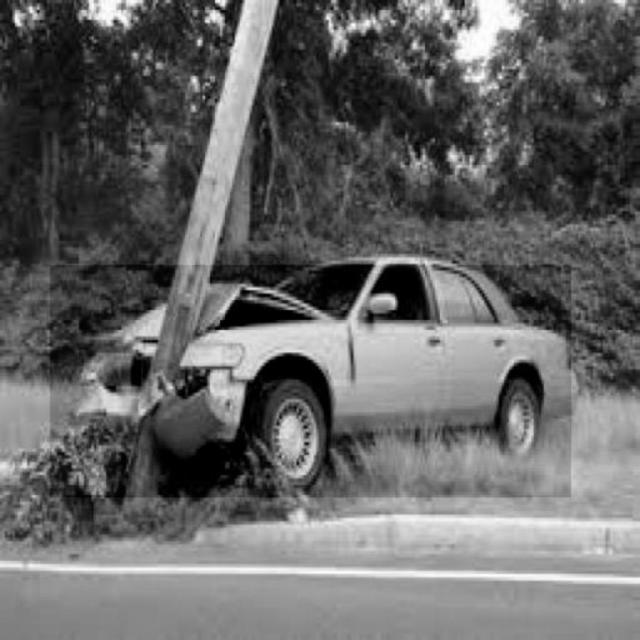accident: (51, 265, 572, 497)
